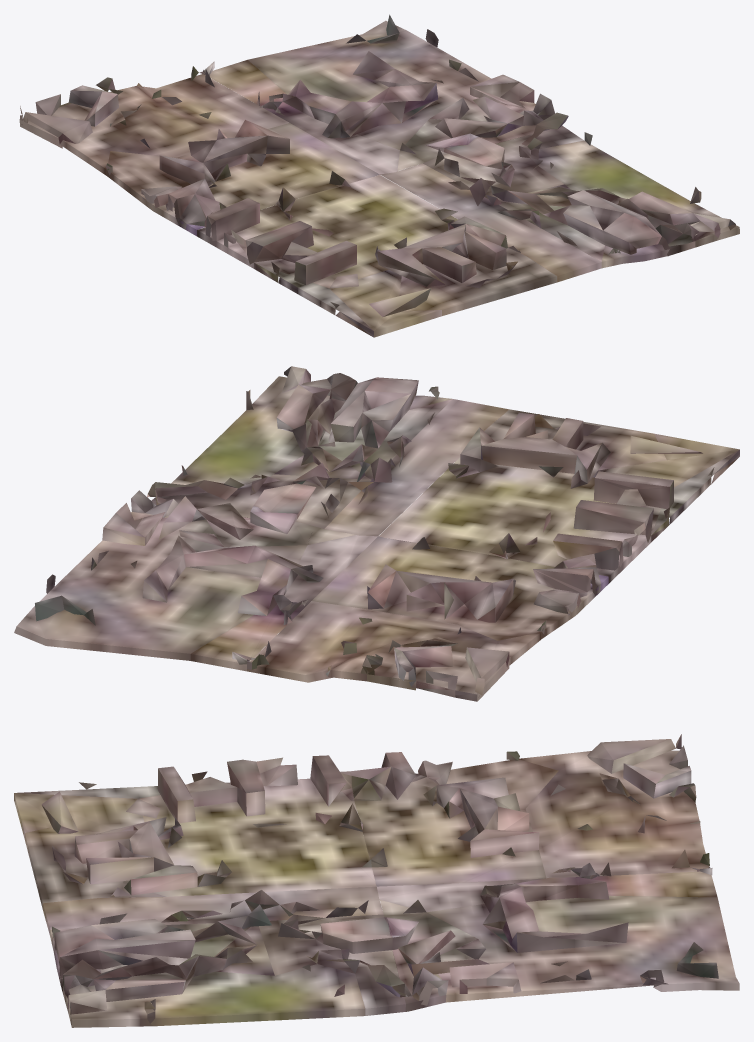
The picture shows the model from 3 angles, top to bottom: view 1: azimuth 30°, elevation 25°; view 2: azimuth 150°, elevation 25°; view 3: azimuth 270°, elevation 25°; orthographic projection. The views are drawn at different scales.
Visible parts, largest first — view 1: Mesh_0; view 2: Mesh_0; view 3: Mesh_0.
Boxes of the visible parts, left/top/right/bottom form: Mesh_0: left=19, top=14, right=739, bottom=337; Mesh_0: left=14, top=366, right=739, bottom=701; Mesh_0: left=14, top=734, right=739, bottom=1027.
Size of the model in its own units: 539 by 49.25 by 659.
Materials: 1 (1 with a texture image).
